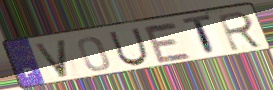0: (76, 36, 112, 72)
E: (141, 21, 195, 65)
R: (216, 10, 266, 53)
T: (181, 13, 219, 58)
U: (107, 26, 151, 68)
V: (31, 38, 70, 80)
